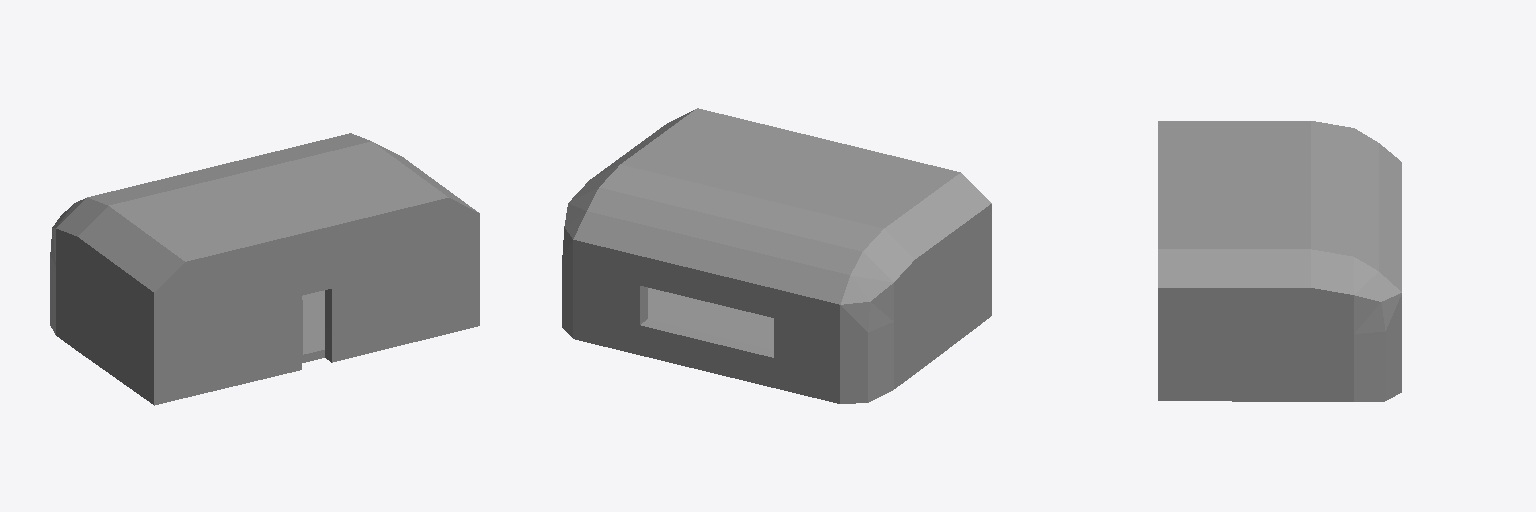
The model's file is bunker.obj.
The picture shows the model from 3 angles: view 1: azimuth 30°, elevation 25°; view 2: azimuth 150°, elevation 25°; view 3: azimuth 270°, elevation 25°; orthographic projection.
Parts seen in each view (by area): view 1: Cube.002; view 2: Cube.002; view 3: Cube.002.
Boxes of the visible parts, box(x1,y1,x2,y2) form: Cube.002: box(50, 133, 479, 405); Cube.002: box(562, 108, 991, 403); Cube.002: box(1158, 121, 1401, 401).
Bounding box in the file's own units: 23.06 × 9.6 × 15.